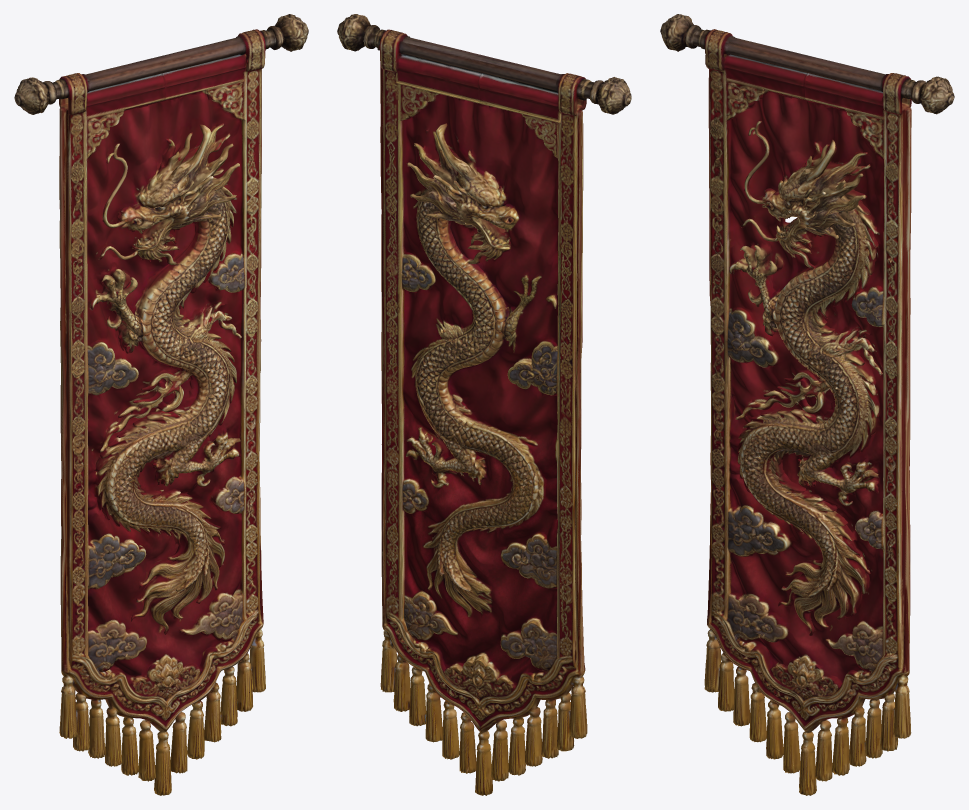
Rendered from 垂挂绣幡.glb.
3 views of the same model, side by side, from view 1: azimuth 30°, elevation 25°; view 2: azimuth 150°, elevation 25°; view 3: azimuth 330°, elevation 25° (orthographic).
Visible parts, largest first — view 1: tripo_node_38fa8fa7-c3f9-4a5e-977b-6a96d805c4f5; view 2: tripo_node_38fa8fa7-c3f9-4a5e-977b-6a96d805c4f5; view 3: tripo_node_38fa8fa7-c3f9-4a5e-977b-6a96d805c4f5.
Part boxes in pixels (x1,y1,x2,y2): tripo_node_38fa8fa7-c3f9-4a5e-977b-6a96d805c4f5: (14, 14, 308, 795); tripo_node_38fa8fa7-c3f9-4a5e-977b-6a96d805c4f5: (337, 14, 631, 795); tripo_node_38fa8fa7-c3f9-4a5e-977b-6a96d805c4f5: (660, 14, 954, 795).
Size of the model in its own units: 0.4005 by 0.9783 by 0.0812.
1 material, 1 textured.
